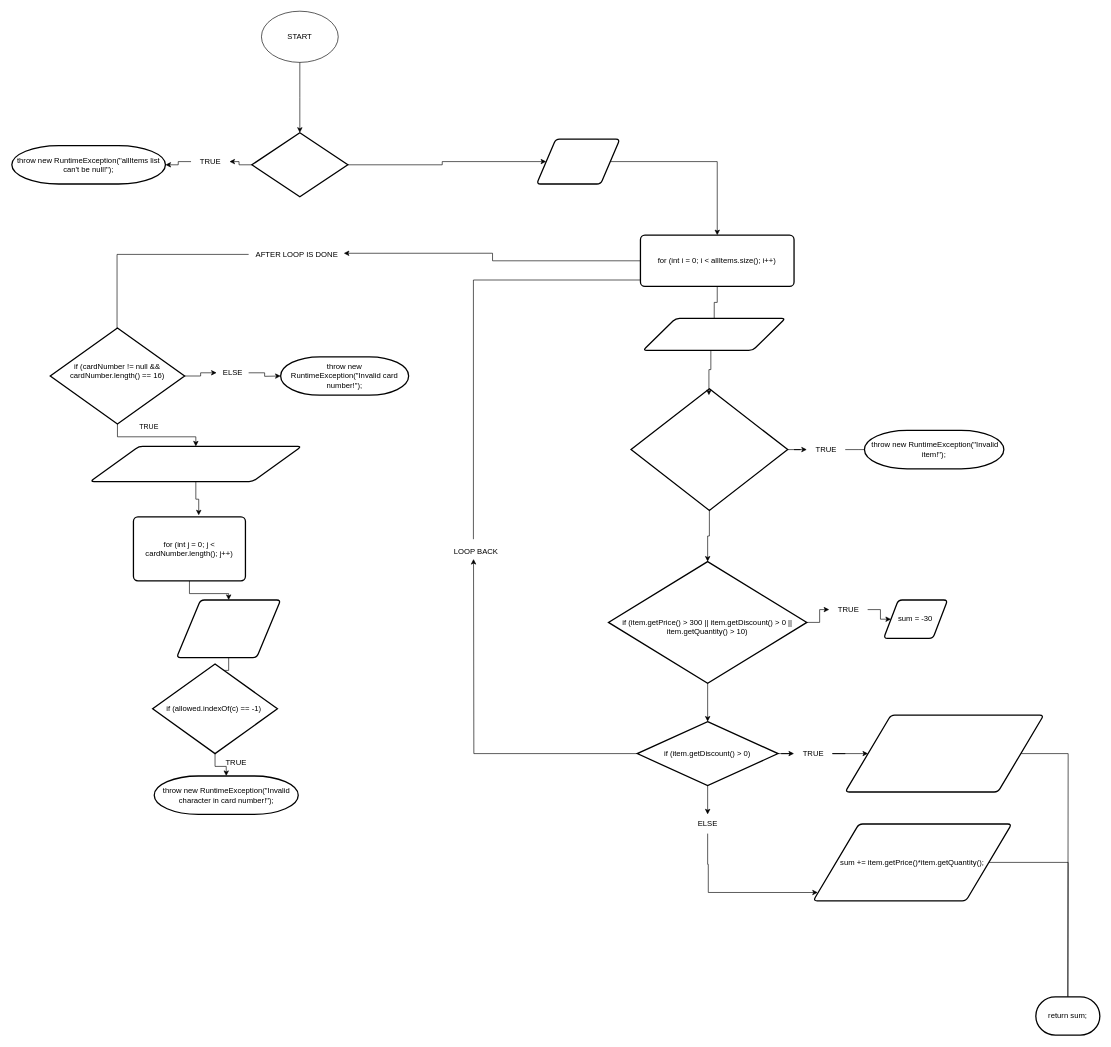
The diagram is 1111 pixels wide and 1047 high, and some of its shapes have lost their labels. The shapes that lost their labels are listed below. From the top down, each one's centre as x and y in pixels, then its label:
(x=299, y=164): if (allItems == null)
(x=578, y=161): double sum = 0
(x=714, y=334): Item item = allItems.get(i);
(x=195, y=463): String allowed = "0123456789"; char[] chars = cardNumber.toCharArray();
(x=709, y=449): if (item.getName() == null || item.getName().length() == 0)
(x=228, y=628): char c = cardNumber.charAt(j);
(x=944, y=753): sum += item.getPrice()*(1-item.getDiscount())*item.getQuantity();
